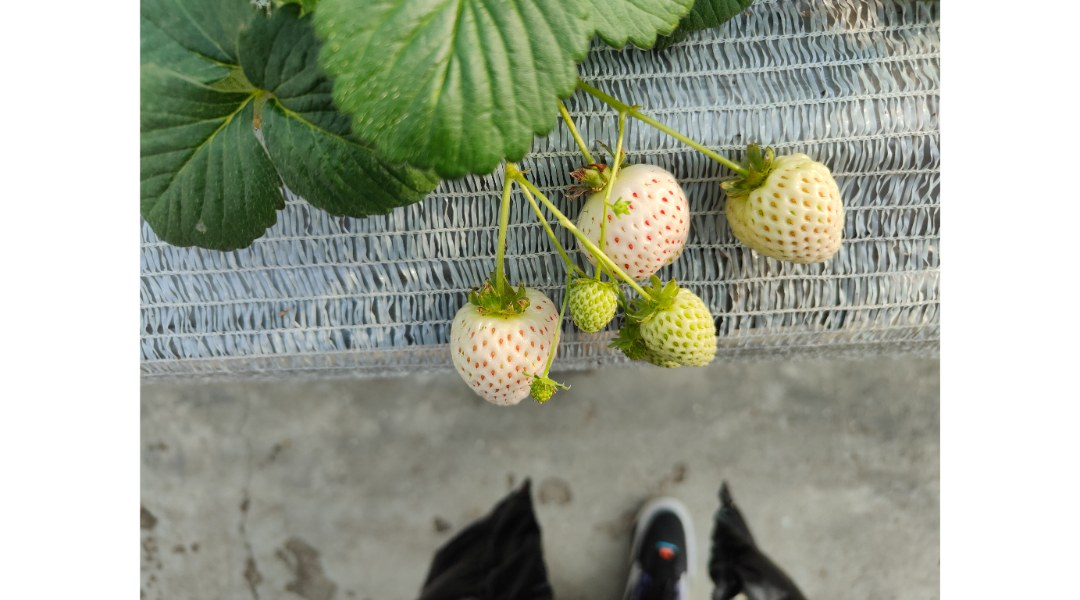berry: (442, 258, 559, 421), (722, 134, 856, 271), (572, 154, 694, 286), (636, 286, 721, 368), (568, 274, 613, 340)
strain: (645, 113, 750, 183), (482, 187, 515, 308), (601, 117, 627, 238), (556, 102, 589, 158)
